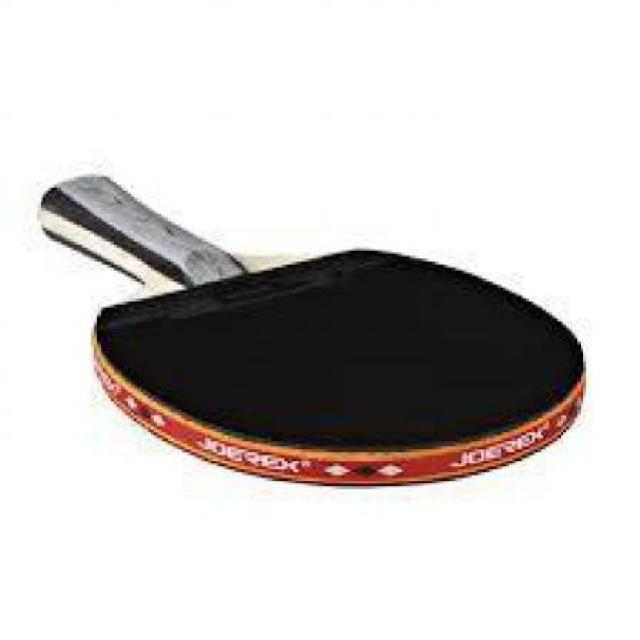table_tennis_racket: (77, 238, 597, 495)
